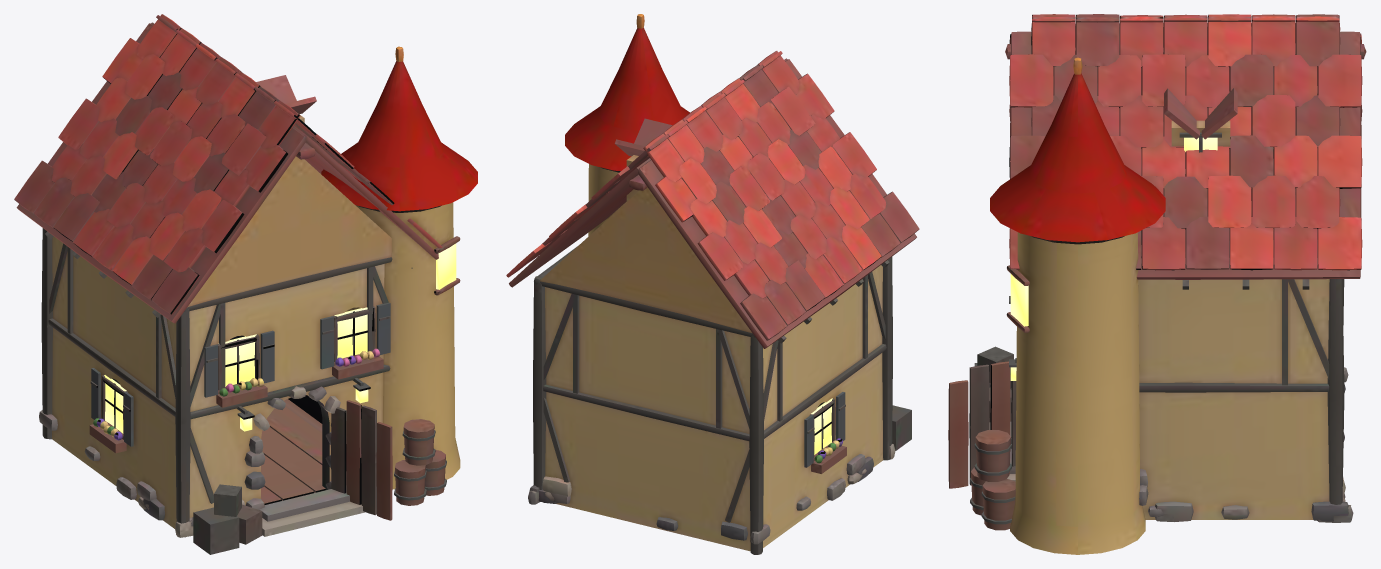
The model's file is house_c.glb.
The picture shows the model from 3 angles, left to right: view 1: azimuth 30°, elevation 25°; view 2: azimuth 150°, elevation 25°; view 3: azimuth 270°, elevation 25°; orthographic projection. The views are drawn at different scales.
Visible parts, largest first — view 1: main, glow; view 2: main, glow; view 3: main, glow.
Part boxes in pixels (x1,y1,x2,y2): main: (14,14,477,554); glow: (104,243,456,433); main: (506,14,919,554); glow: (811,398,832,454); main: (948,14,1366,554); glow: (1010,137,1217,380).
Bounding box in the file's own units: 9.07 × 11.05 × 8.91.
2 materials, 1 textured.
